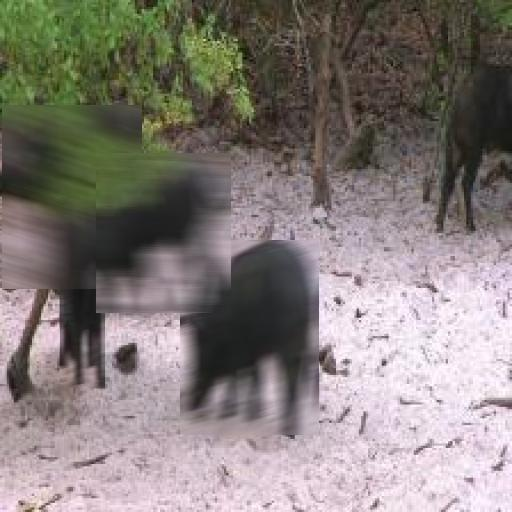Pig: (180, 240, 319, 435), (2, 105, 142, 289), (96, 153, 231, 313), (60, 217, 105, 388)
